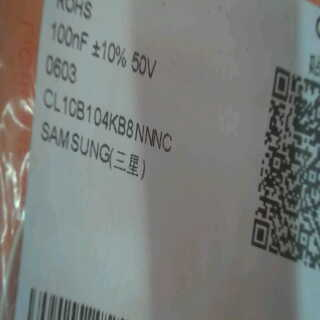100nF: (48, 21, 92, 56)
